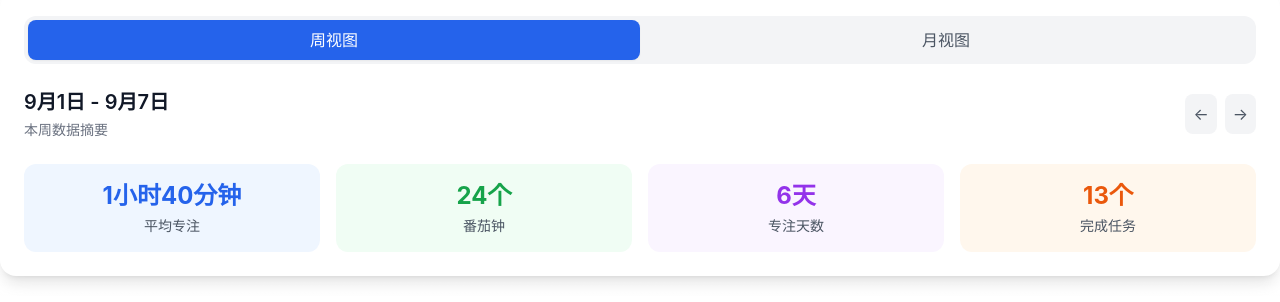
REQ-TM-S05: 查看周/月度数据摘要 - 验收测试 › AC-S05.1: 视图切换功能 › 点击周视图按钮应该切换回周视图
 先切换到月视图
Click the tab with test id "month-view-button" at point(946, 40), box left=640, top=20, right=1252, bottom=60
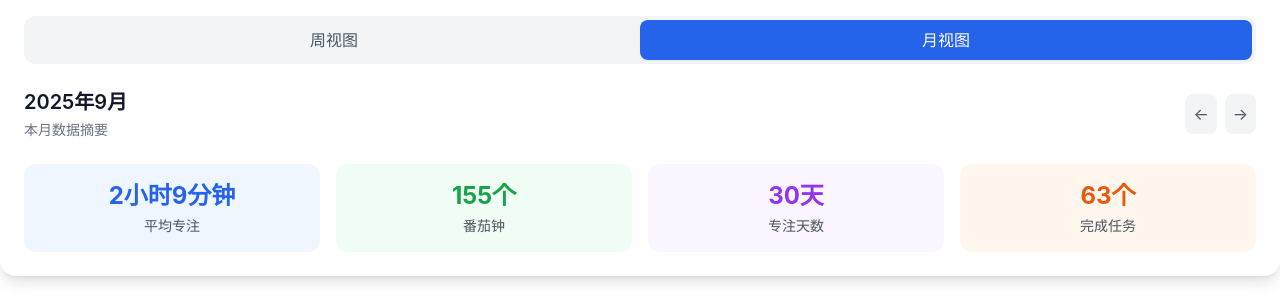
Expected: the element with test id "monthly-summary-content" is shown, left=24, top=88, right=1256, bottom=252
 再切换回周视图
Click the tab with test id "week-view-button" at point(334, 40), box left=28, top=20, right=640, bottom=60
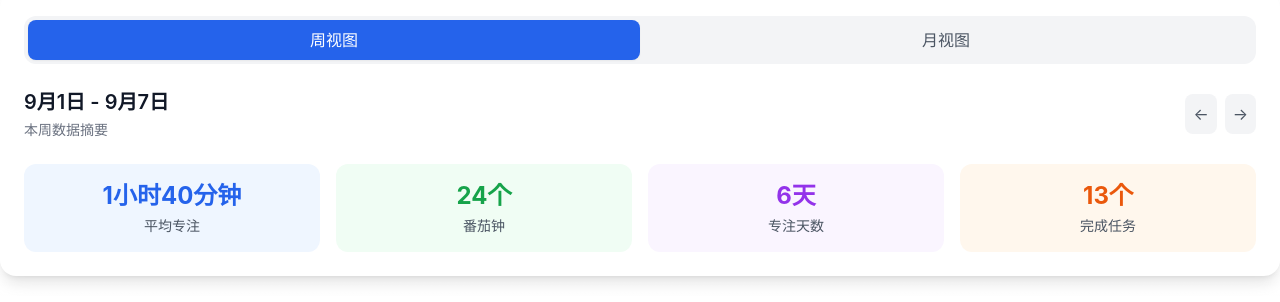
Expected: the element with test id "weekly-summary-content" is shown, left=24, top=88, right=1256, bottom=252
